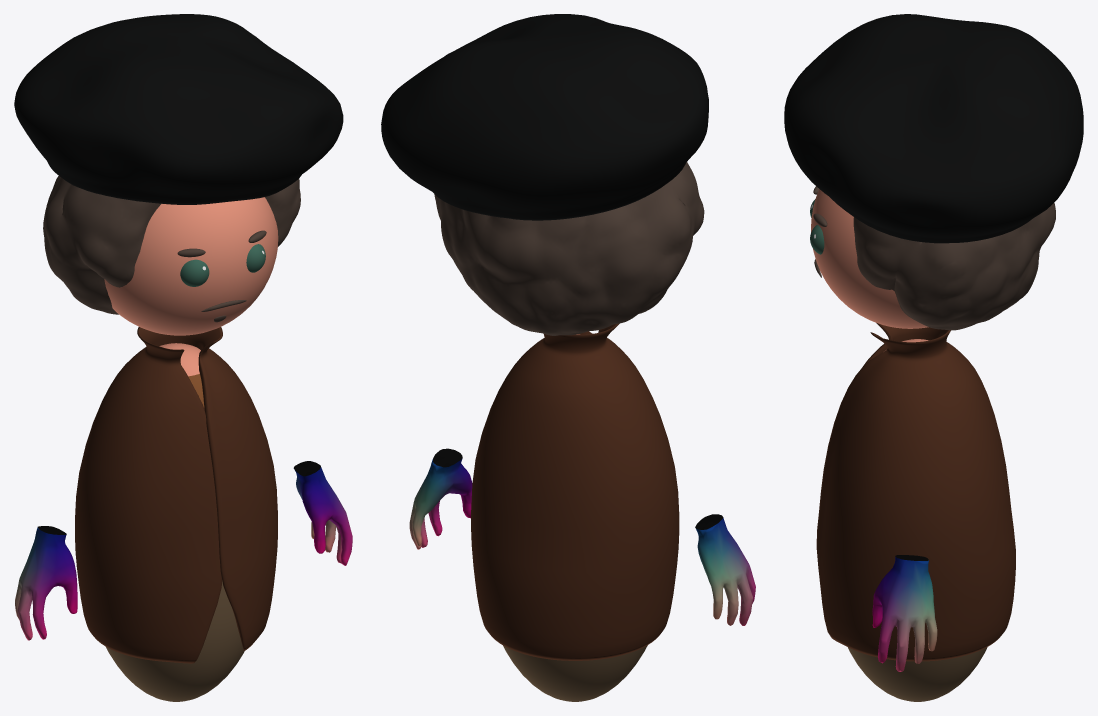
Rendered from Rembrandt.fbx.
3 views of the same model, side by side, from view 1: azimuth 30°, elevation 25°; view 2: azimuth 150°, elevation 25°; view 3: azimuth 270°, elevation 25° (orthographic). The views are drawn at different scales.
Visible parts, largest first — view 1: Shirt.002, Sphere.000, Head.005, Hair.002, Hands.002, Body.006, Eyes.005; view 2: Shirt.002, Sphere.000, Hair.002, Hands.002, Body.006; view 3: Sphere.000, Shirt.002, Hair.002, Head.005, Hands.002, Body.006.
Boxes of the visible parts, <box> form: Shirt.002: <box>75,327,277,663</box>; Sphere.000: <box>14,14,343,204</box>; Head.005: <box>104,197,278,335</box>; Hair.002: <box>43,176,300,314</box>; Hands.002: <box>15,461,352,640</box>; Body.006: <box>106,343,244,701</box>; Eyes.005: <box>180,244,265,286</box>; Shirt.002: <box>471,323,679,660</box>; Sphere.000: <box>381,14,708,220</box>; Hair.002: <box>434,162,704,335</box>; Hands.002: <box>409,448,755,625</box>; Body.006: <box>503,334,647,701</box>; Sphere.000: <box>784,14,1083,243</box>; Shirt.002: <box>816,323,1015,661</box>; Hair.002: <box>853,203,1055,330</box>; Head.005: <box>811,189,928,328</box>; Hands.002: <box>872,555,937,671</box>; Body.006: <box>848,339,987,701</box>.
Size of the model in its own units: 383 by 719 by 297.
